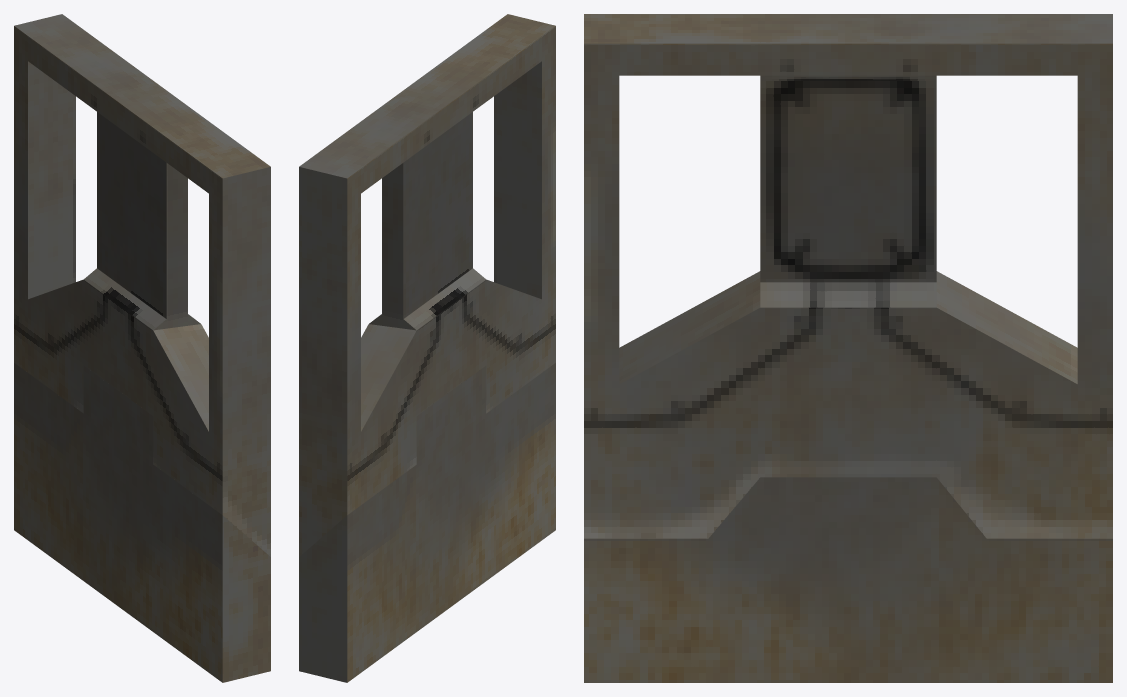
Rendered from door1.glb.
3 views of the same model, side by side, from view 1: azimuth 30°, elevation 25°; view 2: azimuth 150°, elevation 25°; view 3: azimuth 270°, elevation 25° (orthographic). The views are drawn at different scales.
Parts seen in each view (by area): view 1: door2.001, door2; view 2: door2.001, door2; view 3: door2.001, door2.
Part boxes in pixels (box(x1,y1,x2,y2)): door2.001: box(14, 14, 270, 556); door2: box(14, 363, 270, 682); door2.001: box(299, 14, 555, 556); door2: box(299, 363, 555, 682); door2.001: box(584, 14, 1112, 538); door2: box(584, 477, 1112, 682).
Bounding box in the file's own units: 0.2 × 2 × 1.5.
1 material, 1 textured.
